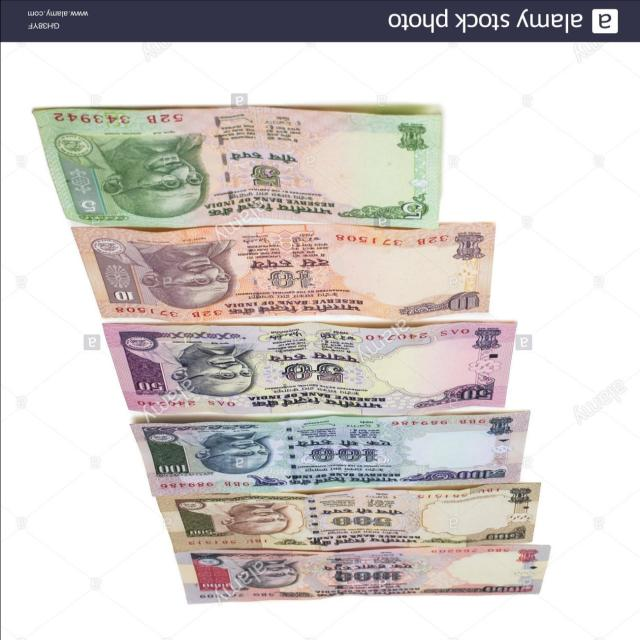5IndianRupees: (54, 105, 439, 228)
